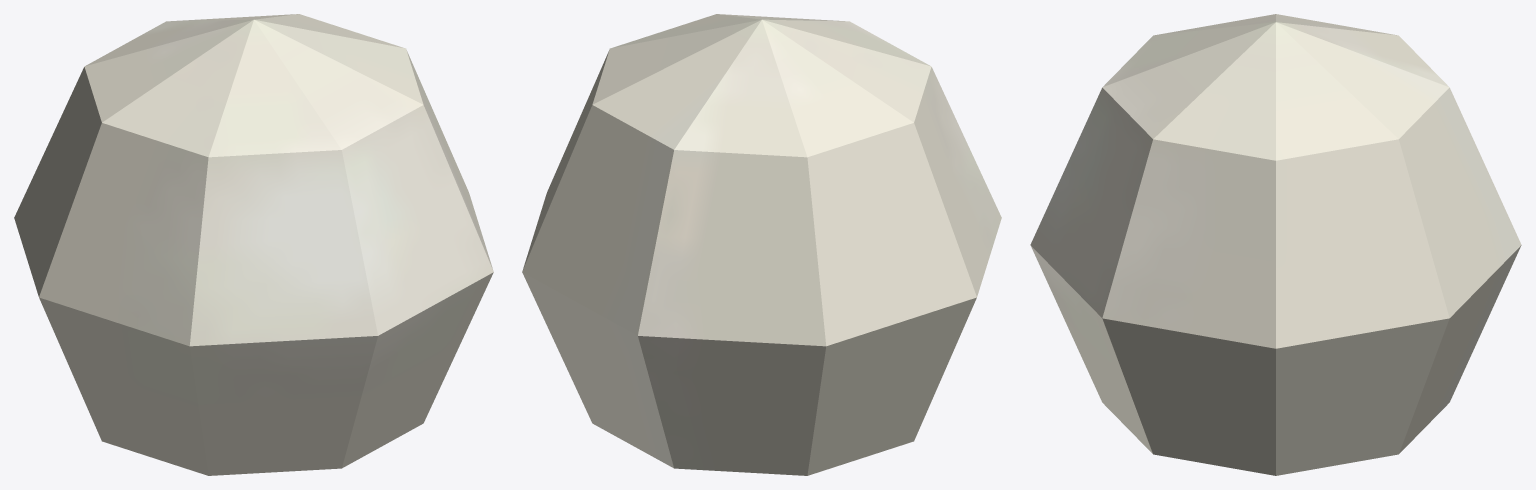
Rendered from Chameleon_snookerCue_ball.obj.
The picture shows the model from 3 angles, left to right: view 1: azimuth 30°, elevation 25°; view 2: azimuth 150°, elevation 25°; view 3: azimuth 270°, elevation 25°; orthographic projection.
Parts seen in each view (by area): view 1: Chameleon_snookerCue_tri [ball]; view 2: Chameleon_snookerCue_tri [ball]; view 3: Chameleon_snookerCue_tri [ball].
Boxes of the visible parts, box(x1,y1,x2,y2) form: Chameleon_snookerCue_tri [ball]: box(14, 14, 493, 475); Chameleon_snookerCue_tri [ball]: box(522, 14, 1001, 475); Chameleon_snookerCue_tri [ball]: box(1030, 14, 1521, 475).
Bounding box in the file's own units: 0.13 × 0.1301 × 0.13.
Materials: 1 (1 with a texture image).
